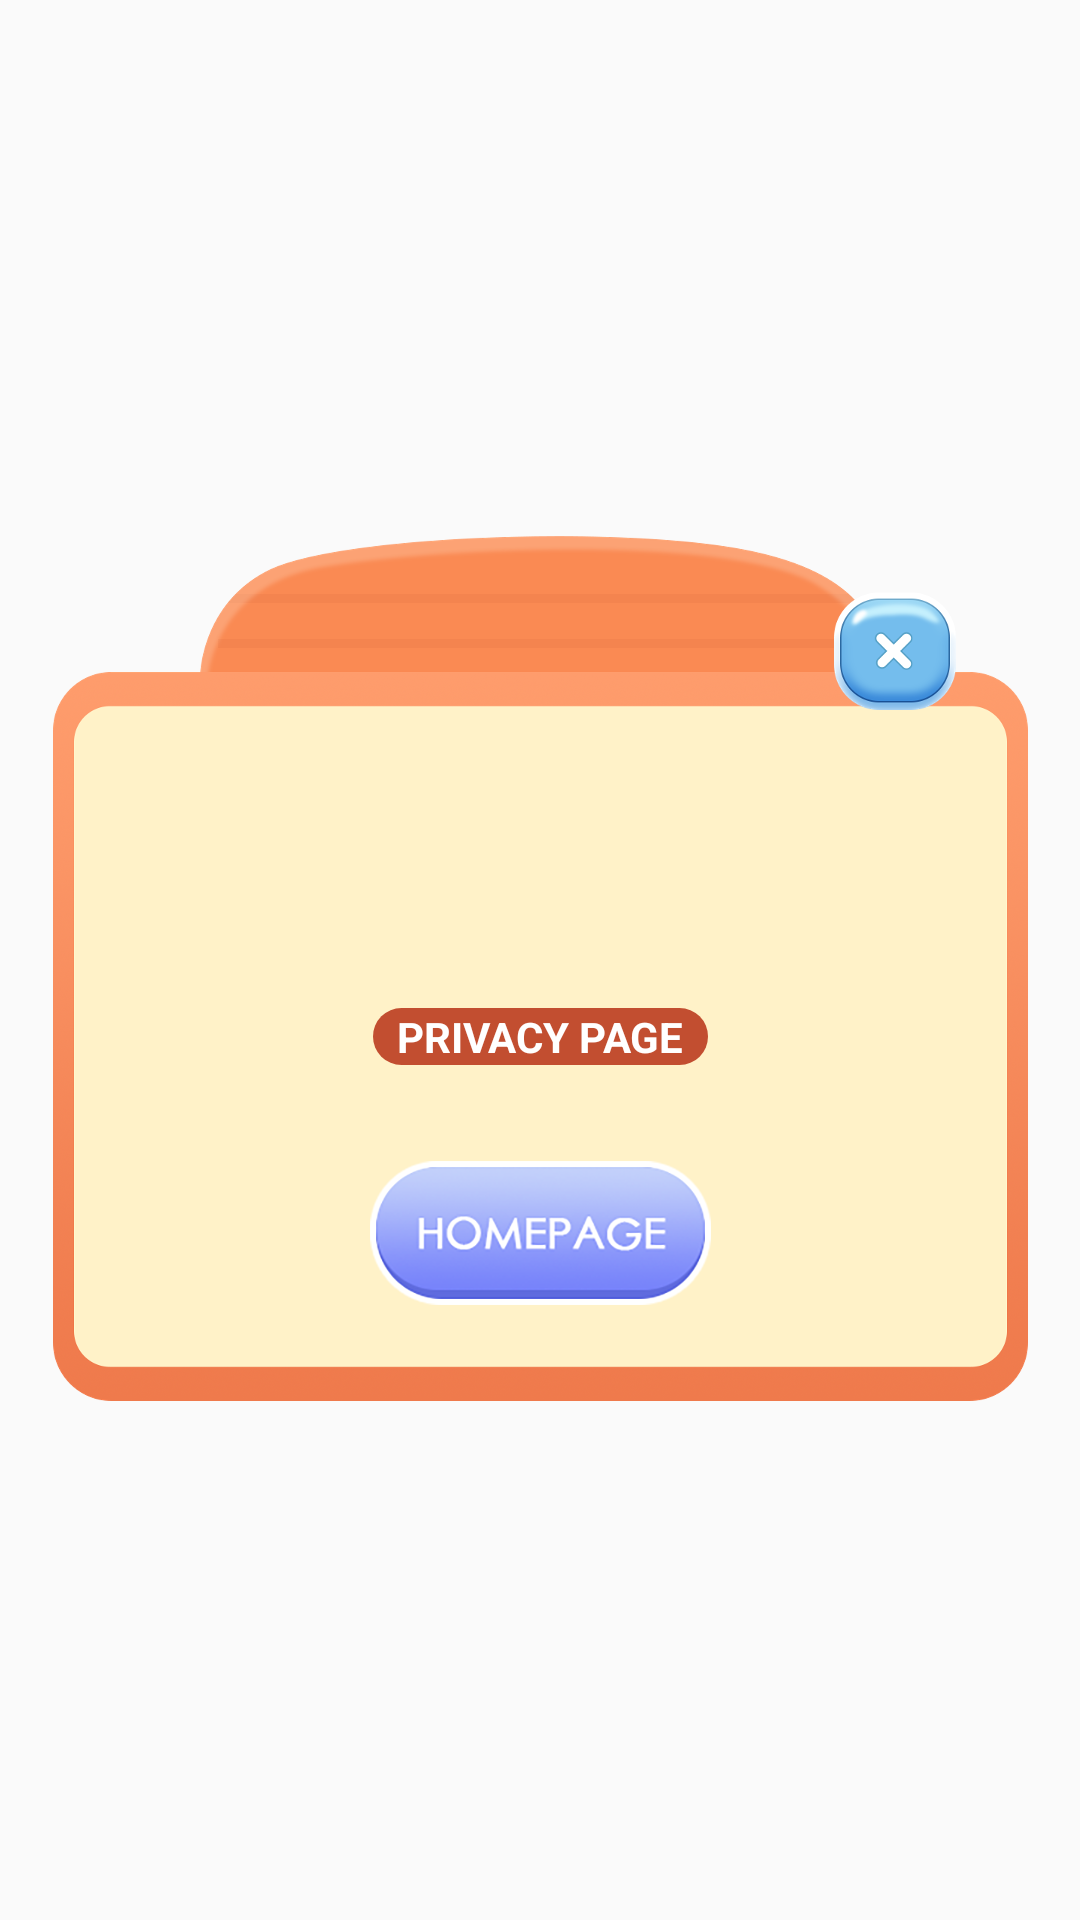

Screen size 1080px×1920px. Icon name, then its center in pixels as (x,y):
link close: (895,650)
